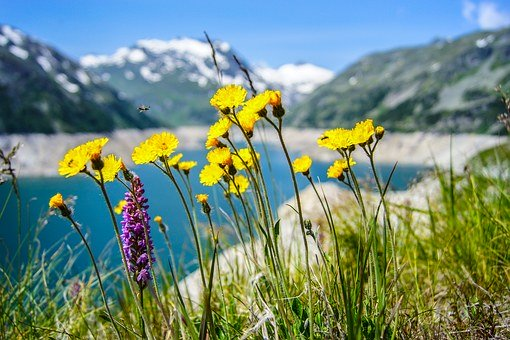flower: (9, 106, 501, 335)
mountain: (6, 30, 510, 123)
